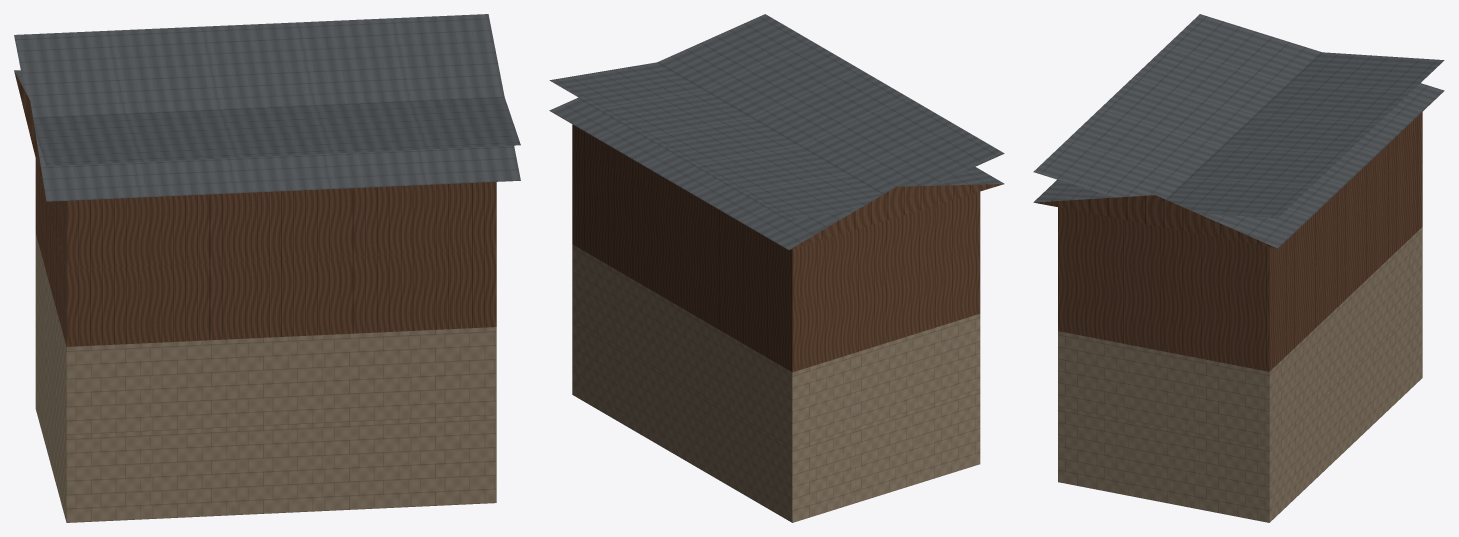
File: bld_c-16_-16_760.gltf
The picture shows the model from 3 angles, left to right: view 1: azimuth 30°, elevation 25°; view 2: azimuth 150°, elevation 25°; view 3: azimuth 270°, elevation 25°; orthographic projection. The views are drawn at different scales.
Parts seen in each view (by area): view 1: bld_c-16_-16_760; view 2: bld_c-16_-16_760; view 3: bld_c-16_-16_760.
Boxes of the visible parts, bbox=[...] form: bld_c-16_-16_760: bbox=[14, 14, 520, 522]; bld_c-16_-16_760: bbox=[549, 14, 1004, 522]; bld_c-16_-16_760: bbox=[1033, 14, 1444, 522].
Size of the model in its own units: 14.36 by 10.3 by 12.23.
4 materials, 4 textured.
